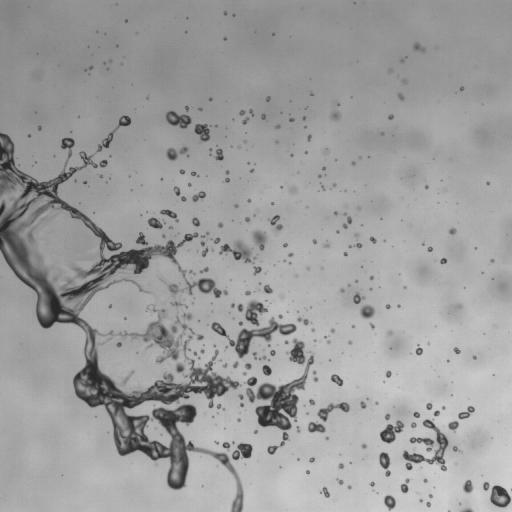droplet: (211, 299, 296, 358), (402, 419, 448, 471), (483, 482, 511, 507), (379, 420, 404, 443), (165, 111, 191, 128), (232, 442, 252, 460), (251, 230, 267, 250), (194, 124, 210, 141), (269, 215, 283, 234), (360, 304, 375, 318), (308, 422, 325, 433), (147, 217, 162, 229), (384, 494, 395, 510), (330, 374, 343, 386), (400, 478, 410, 493), (462, 480, 473, 493), (192, 191, 205, 201), (353, 292, 364, 303), (448, 420, 458, 432), (413, 43, 425, 51), (215, 148, 223, 160), (262, 365, 271, 375), (171, 300, 182, 308), (331, 111, 340, 120), (321, 487, 329, 497), (264, 285, 273, 293), (108, 330, 115, 340), (253, 266, 261, 274), (192, 217, 199, 226), (415, 346, 422, 355), (289, 186, 297, 193), (448, 228, 456, 234), (242, 117, 248, 124), (213, 237, 220, 243), (370, 236, 376, 243), (453, 347, 460, 353), (426, 402, 432, 409), (354, 243, 362, 248), (323, 148, 329, 154), (245, 363, 251, 369), (398, 93, 403, 100), (233, 361, 238, 368), (386, 370, 391, 377), (360, 401, 365, 408), (413, 412, 420, 417), (452, 446, 459, 451), (336, 479, 343, 484), (239, 110, 245, 115), (440, 258, 446, 263), (270, 349, 275, 355), (309, 399, 314, 405), (434, 410, 439, 416), (385, 414, 390, 420), (388, 114, 393, 119), (179, 169, 184, 174), (218, 222, 223, 227), (324, 242, 329, 247), (245, 290, 250, 295), (387, 330, 392, 335), (116, 342, 121, 347), (238, 394, 243, 399), (411, 422, 416, 427), (309, 457, 314, 462), (338, 463, 343, 468), (249, 109, 253, 115), (191, 172, 197, 176), (266, 96, 270, 101), (261, 114, 265, 119), (289, 117, 294, 121), (37, 125, 41, 130), (275, 124, 280, 128), (307, 135, 311, 140), (224, 178, 229, 182), (189, 270, 194, 274), (279, 294, 284, 298), (238, 321, 243, 325), (370, 323, 374, 328), (240, 402, 244, 407), (216, 404, 221, 408), (296, 427, 300, 432), (402, 79, 406, 83), (185, 106, 189, 110), (225, 170, 229, 174), (245, 217, 249, 221), (283, 243, 287, 247), (428, 247, 432, 251), (343, 252, 347, 256), (340, 288, 344, 292), (386, 304, 390, 308), (278, 314, 282, 318), (284, 340, 288, 344), (200, 349, 204, 353), (223, 363, 227, 367), (362, 444, 366, 448), (370, 482, 374, 486), (347, 485, 351, 489), (426, 502, 430, 506), (288, 253, 293, 256), (250, 168, 253, 172), (201, 241, 204, 245), (348, 341, 352, 344), (473, 355, 476, 359), (89, 66, 92, 69), (460, 87, 463, 90), (188, 183, 191, 186), (425, 185, 428, 188), (321, 186, 324, 189), (247, 199, 250, 202), (334, 211, 337, 214), (355, 233, 358, 236), (313, 240, 316, 243), (370, 276, 373, 279), (458, 304, 461, 307), (311, 328, 314, 331), (331, 329, 334, 332), (327, 340, 330, 343), (442, 406, 445, 409), (237, 418, 240, 421), (254, 430, 257, 433), (306, 470, 309, 473), (424, 479, 427, 482), (429, 494, 432, 497), (209, 98, 212, 100), (302, 117, 305, 119), (28, 134, 30, 137), (352, 162, 355, 164), (322, 167, 325, 169), (99, 175, 102, 177), (486, 182, 489, 184), (235, 204, 237, 207), (349, 245, 352, 247), (491, 259, 493, 262), (288, 262, 291, 264), (193, 352, 196, 354), (243, 372, 245, 375), (375, 401, 377, 404), (326, 436, 328, 439), (215, 441, 218, 443), (224, 12, 226, 14), (401, 60, 403, 62), (337, 103, 339, 105), (199, 108, 201, 110), (381, 132, 383, 134), (305, 151, 307, 153), (291, 154, 293, 156), (318, 175, 320, 177), (333, 184, 335, 186), (271, 202, 273, 204), (358, 207, 360, 209), (162, 235, 164, 237), (109, 305, 111, 307), (398, 305, 400, 307), (197, 356, 199, 358), (420, 499, 422, 501)
ligament: (0, 133, 242, 511), (245, 338, 314, 454), (97, 115, 130, 151), (219, 240, 256, 263), (317, 402, 349, 421), (166, 146, 188, 160), (379, 452, 390, 476), (160, 209, 178, 222), (458, 406, 474, 419), (173, 186, 186, 201), (342, 213, 351, 228), (297, 317, 310, 325), (253, 352, 267, 359), (312, 370, 318, 381), (202, 248, 208, 256), (200, 267, 208, 273), (461, 508, 473, 511), (202, 232, 208, 237)
